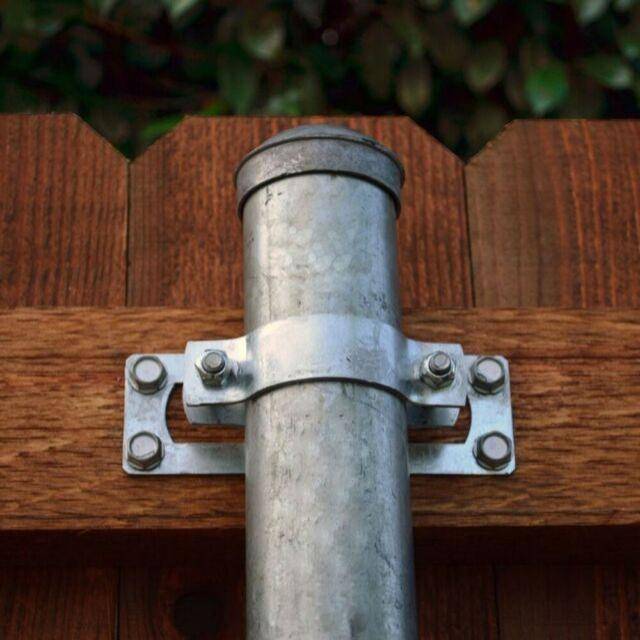bolt head: (465, 350, 508, 396), (124, 352, 171, 394), (473, 426, 515, 468), (123, 430, 166, 470)
bolt nut: (192, 342, 235, 390), (416, 348, 458, 392)
